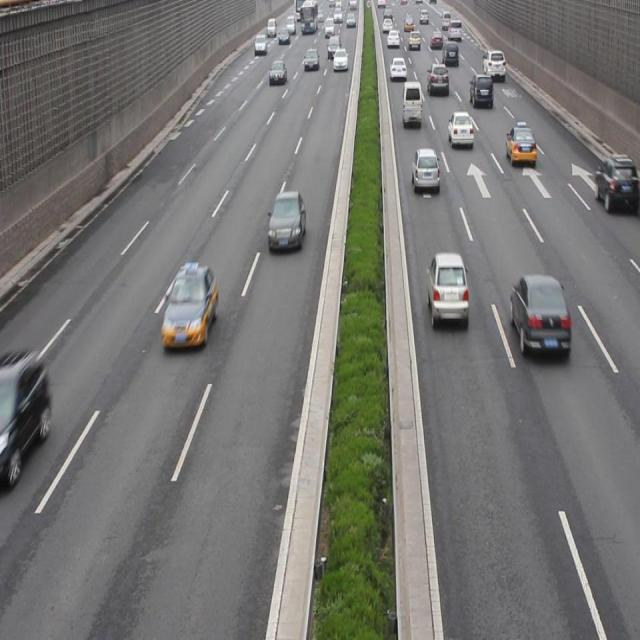car: (508, 276, 571, 363), (162, 264, 215, 349), (426, 252, 468, 330), (592, 156, 640, 213), (267, 190, 305, 253), (505, 125, 536, 168), (411, 148, 438, 192), (446, 109, 473, 149)
